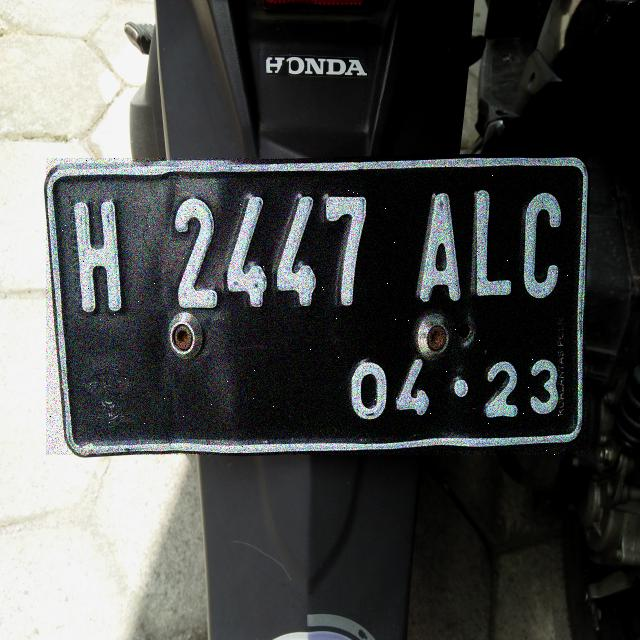plate: (46, 159, 585, 454)
